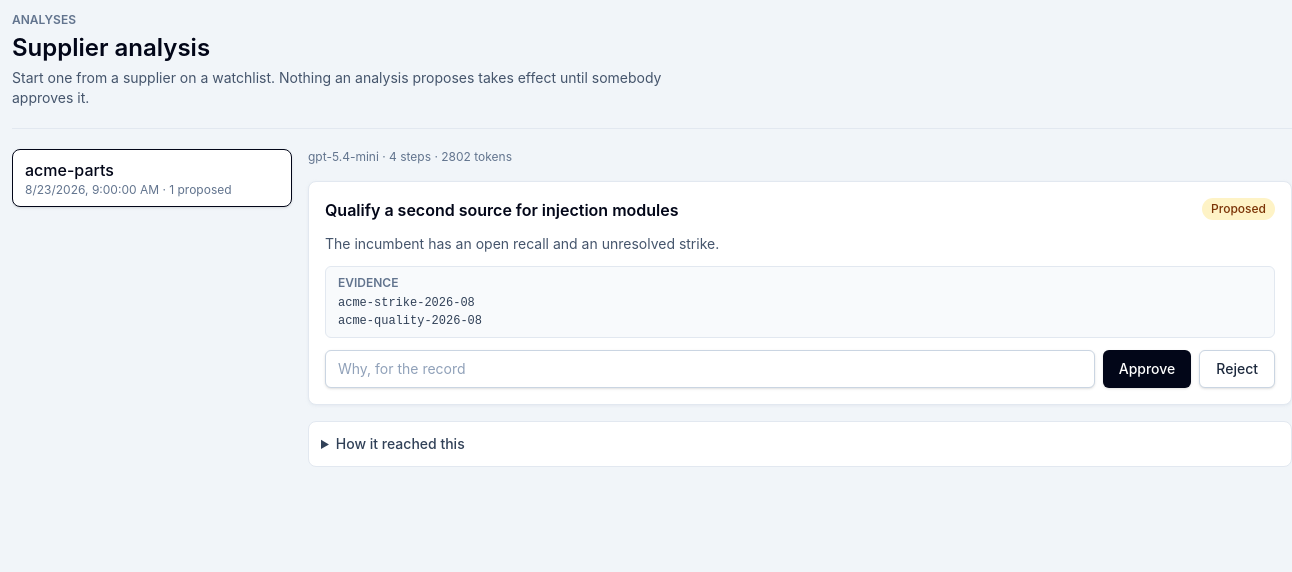
Test: SupplierAnalysis › keeps the transcript out of the way but reachable
expect the heading "Qualify a second source for injection modules" is shown: met, box [325,198,678,222]
expect the element showing "How it reached this" is shown: met, box [308,421,1291,467]
Click the heading "How it reached this" at (400, 444), box [336,435,465,452]
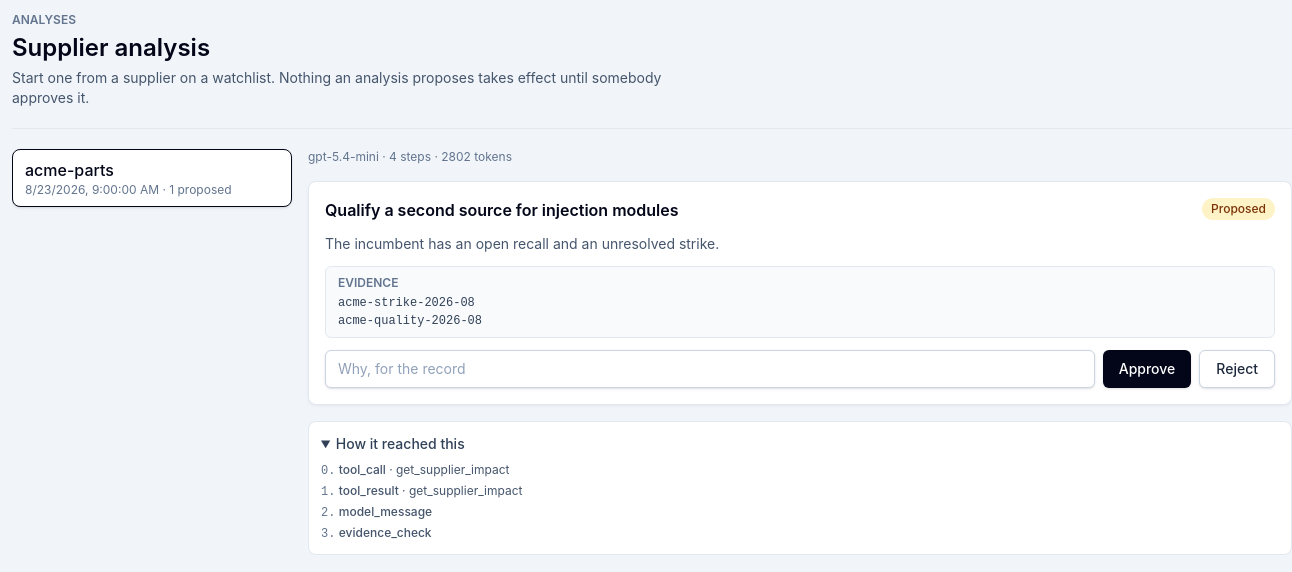
expect the number of list items "0. tool_call · get_supplier_impact" is 2: met, box [321,462,510,478]; [321,483,522,499]
